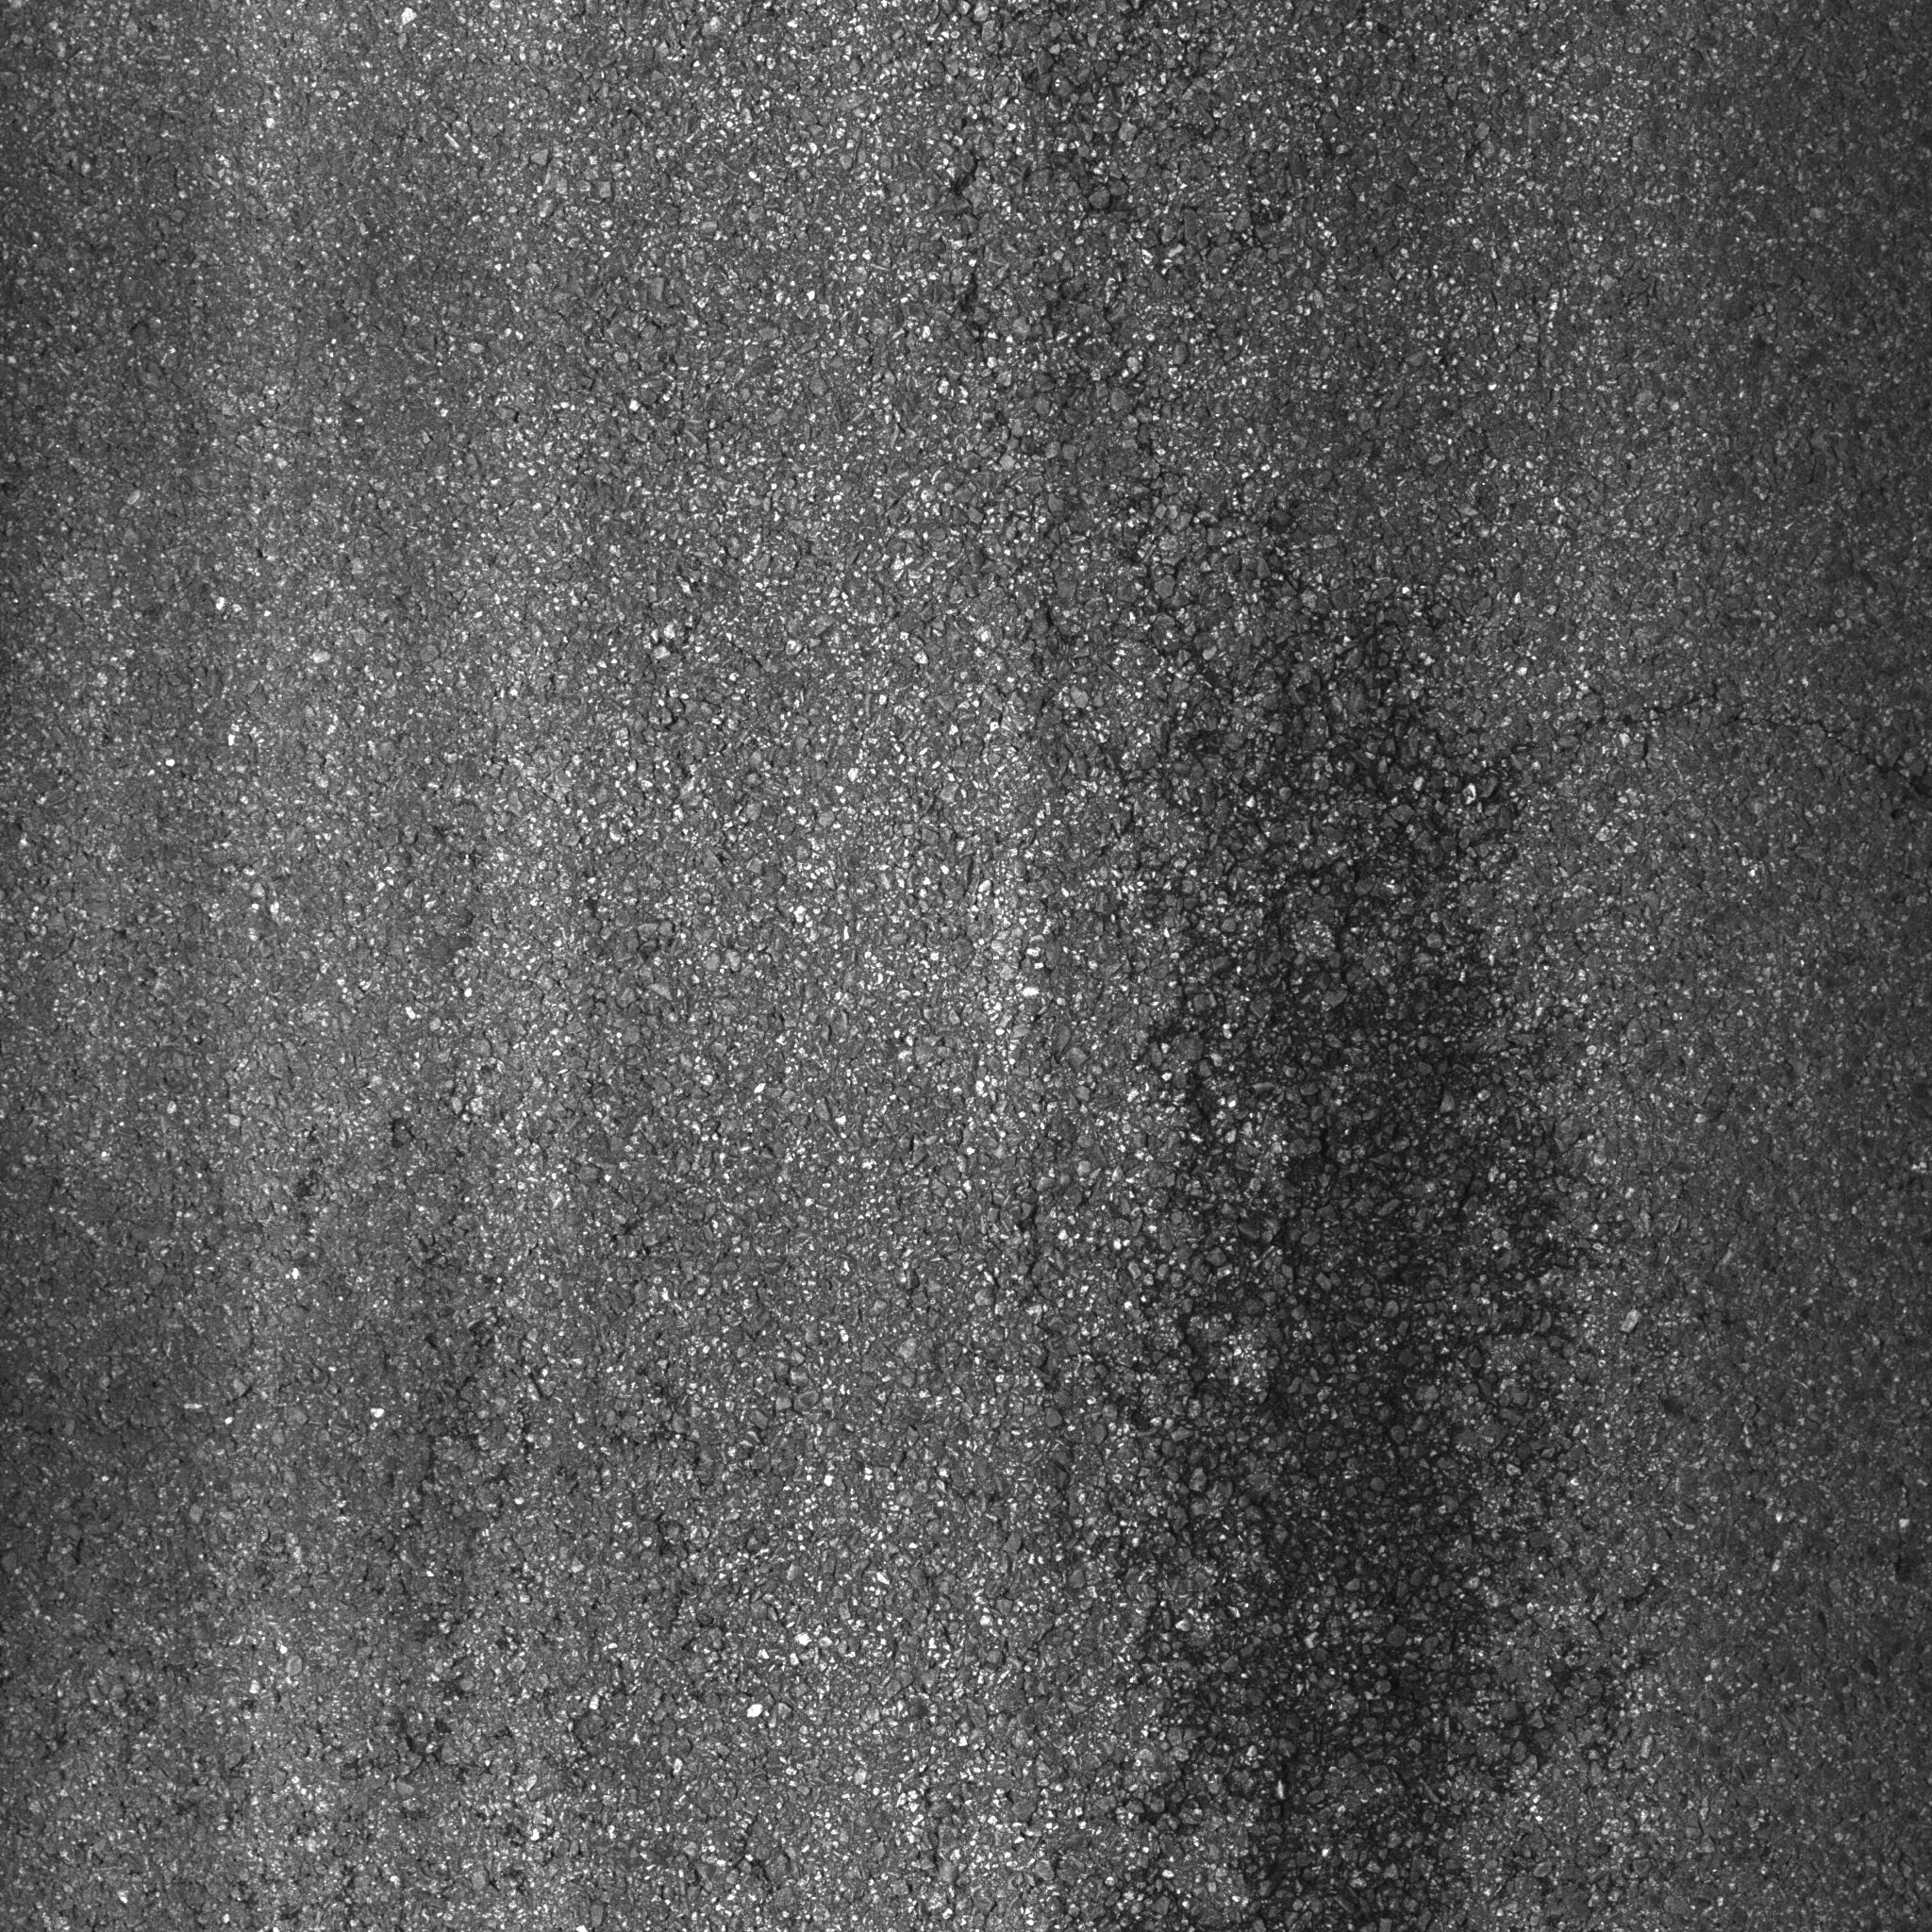transeverse: (1470, 678, 1932, 858)
